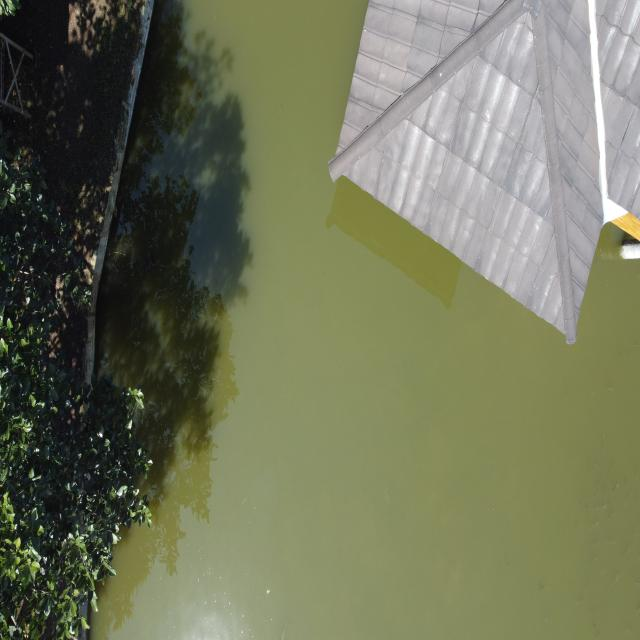Ponds: (67, 1, 640, 640)
